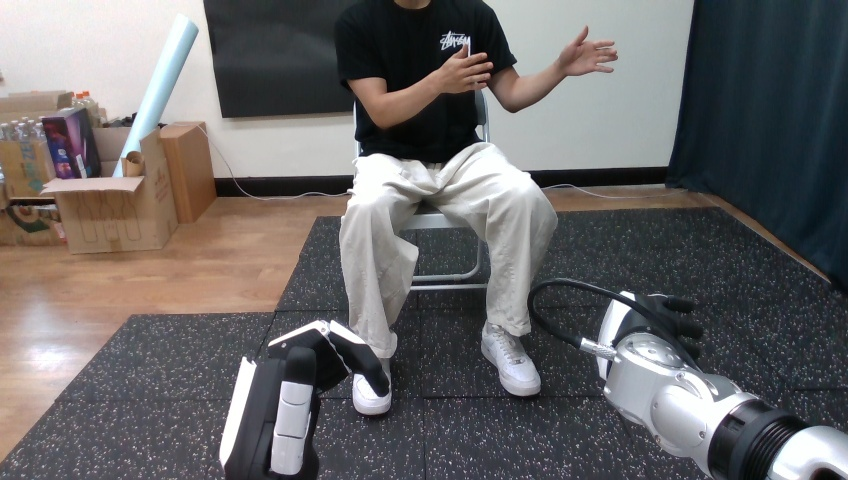left robot hand: (528, 278, 847, 479), (219, 320, 390, 479), (556, 26, 617, 77), (441, 44, 492, 91)
